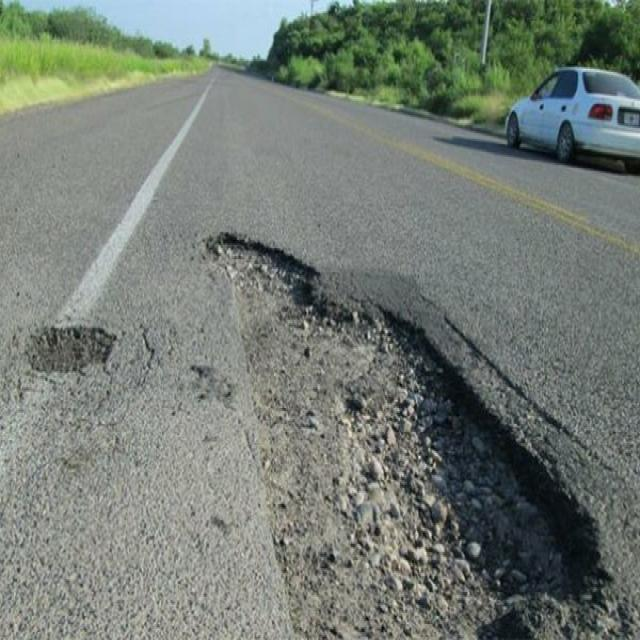Buraco: (197, 229, 640, 640), (19, 322, 122, 378)
